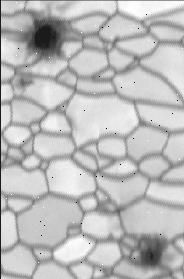good_void: (23, 5, 70, 63), (134, 225, 180, 272), (9, 72, 36, 97)
